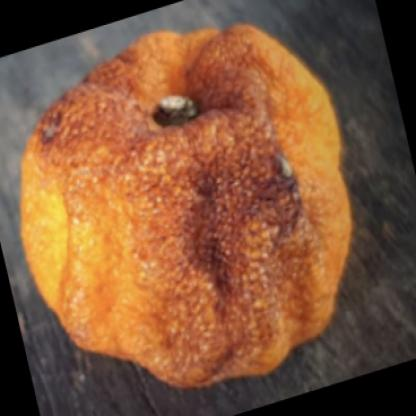rotten: (24, 31, 350, 387)
